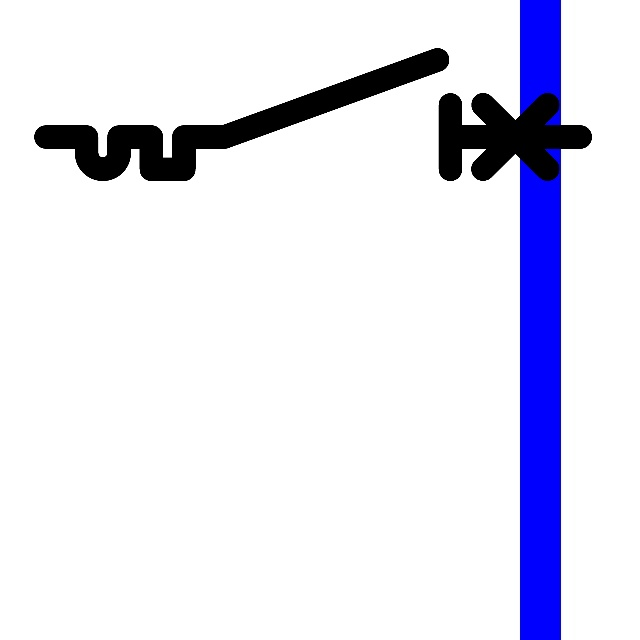interruptor_termomagnetico: (32, 46, 594, 183)
